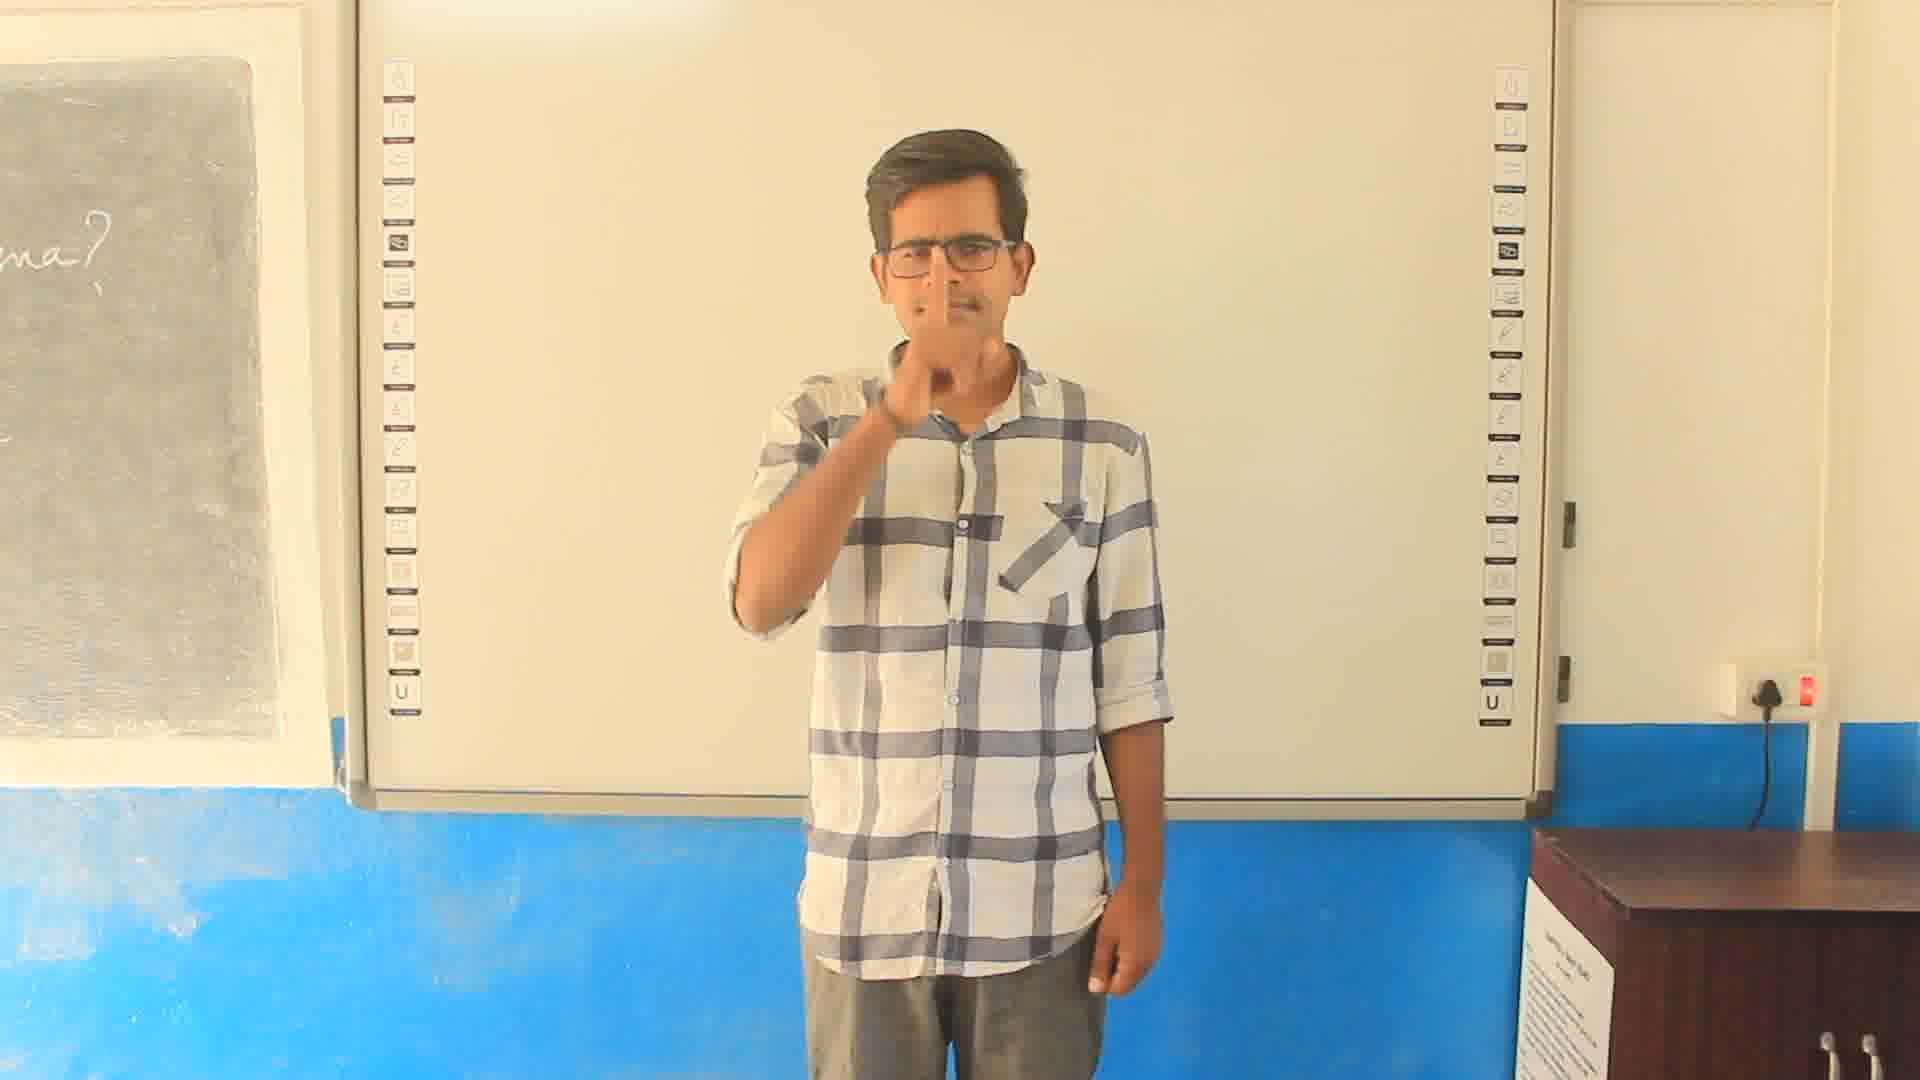quiet: (872, 206, 1048, 455)
